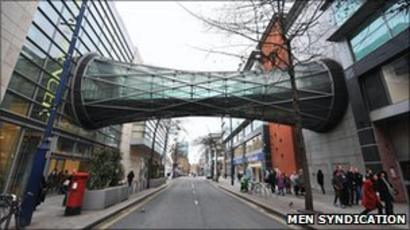bridge: (69, 53, 352, 134)
